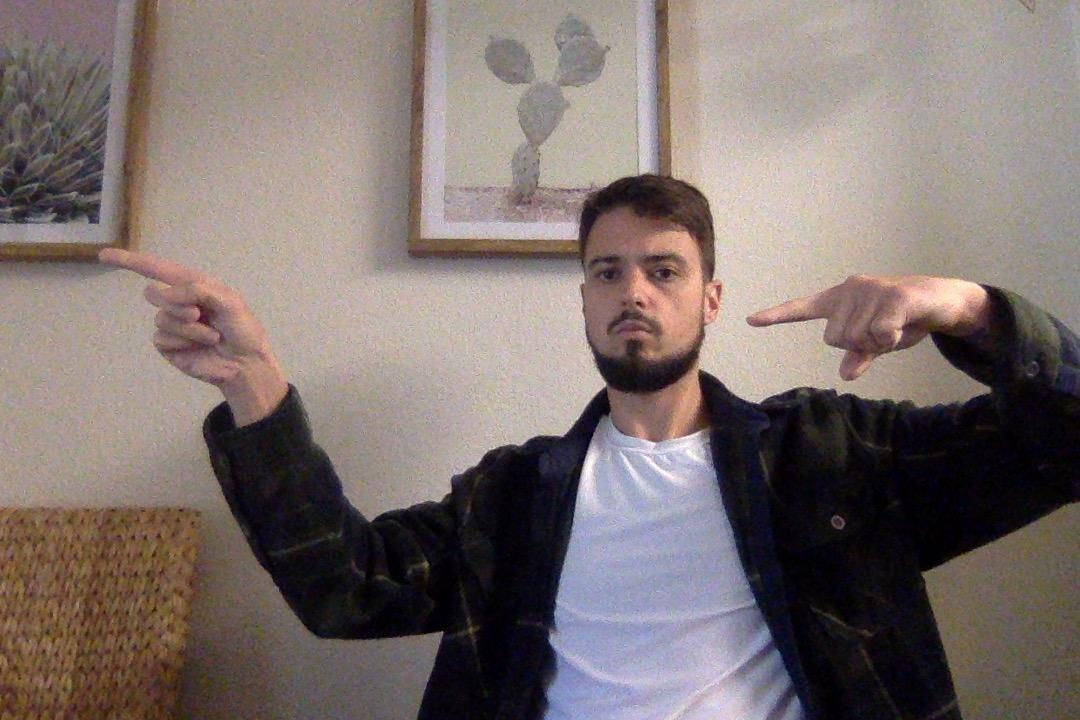Point-Left: (92, 233, 292, 416), (745, 273, 992, 371)
